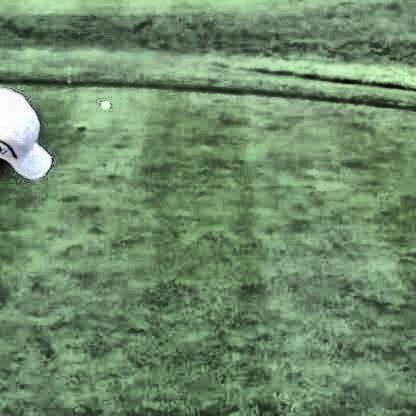golfball: (98, 98, 108, 107)
